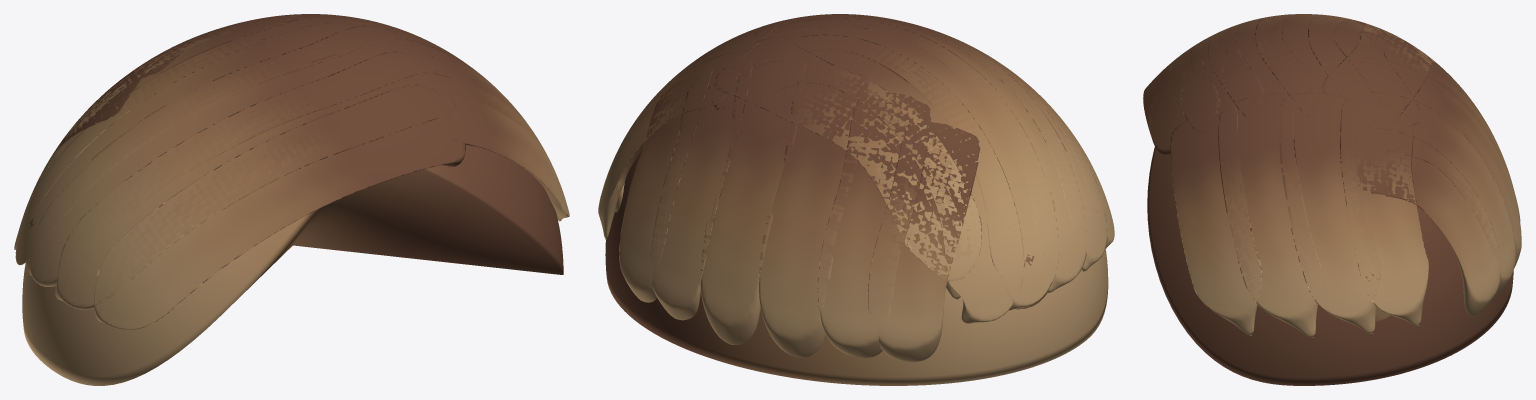
File: Ombre-3c07971bc987253-hair.glb
The picture shows the model from 3 angles, left to right: view 1: azimuth 30°, elevation 25°; view 2: azimuth 150°, elevation 25°; view 3: azimuth 270°, elevation 25°; orthographic projection. The views are drawn at different scales.
Visible parts, largest first — view 1: 226 hair / Hair / sculpted 0.001, 226 hair / Hair / sculpted 1.002, 226 hair / Hair / sculpted 1.001, 226 hair / Hair / sculpted 2.001; view 2: 226 hair / Hair / sculpted 1.001, 226 hair / Hair / sculpted 0.001, 226 hair / Hair / sculpted 2.001, 226 hair / Hair / sculpted 1.002; view 3: 226 hair / Hair / sculpted 0.001, 226 hair / Hair / sculpted 1.001, 226 hair / Hair / sculpted 2.001, 226 hair / Hair / sculpted 1.002.
Boxes of the visible parts, x1,y1,x2,y2 form: 226 hair / Hair / sculpted 0.001: (15, 14, 569, 329); 226 hair / Hair / sculpted 1.002: (22, 145, 563, 385); 226 hair / Hair / sculpted 1.001: (14, 14, 547, 309); 226 hair / Hair / sculpted 2.001: (29, 18, 490, 286); 226 hair / Hair / sculpted 1.001: (615, 14, 1107, 358); 226 hair / Hair / sculpted 0.001: (598, 18, 1114, 362); 226 hair / Hair / sculpted 2.001: (609, 14, 1086, 357); 226 hair / Hair / sculpted 1.002: (605, 151, 1108, 385); 226 hair / Hair / sculpted 0.001: (1143, 14, 1521, 335); 226 hair / Hair / sculpted 1.001: (1170, 14, 1515, 337); 226 hair / Hair / sculpted 2.001: (1208, 14, 1520, 333); 226 hair / Hair / sculpted 1.002: (1147, 146, 1513, 385).
Bounding box in the file's own units: 0.96 × 0.5092 × 0.723.
Materials: 4 (4 with a texture image).
